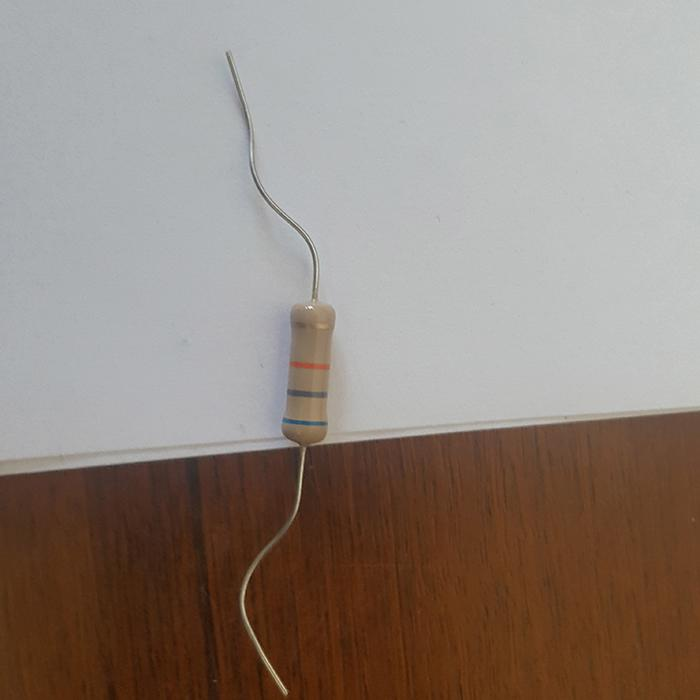resistor: (280, 299, 334, 445)
